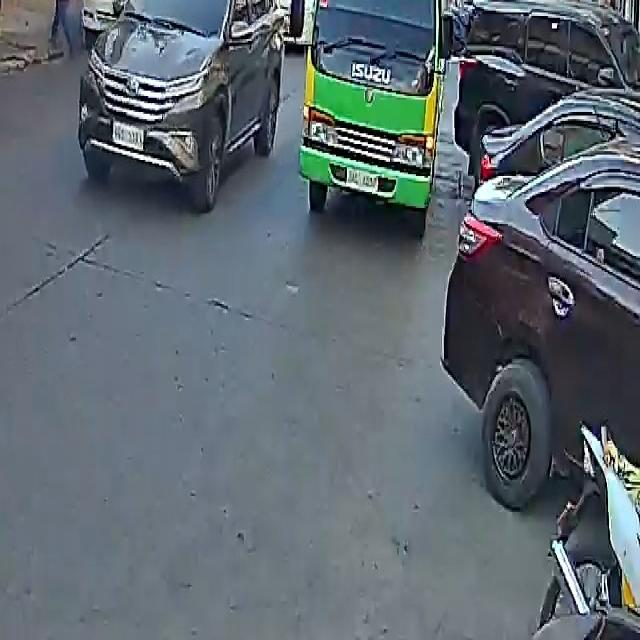car: (442, 138, 640, 522), (76, 0, 286, 220), (454, 0, 640, 164), (80, 0, 201, 52)
